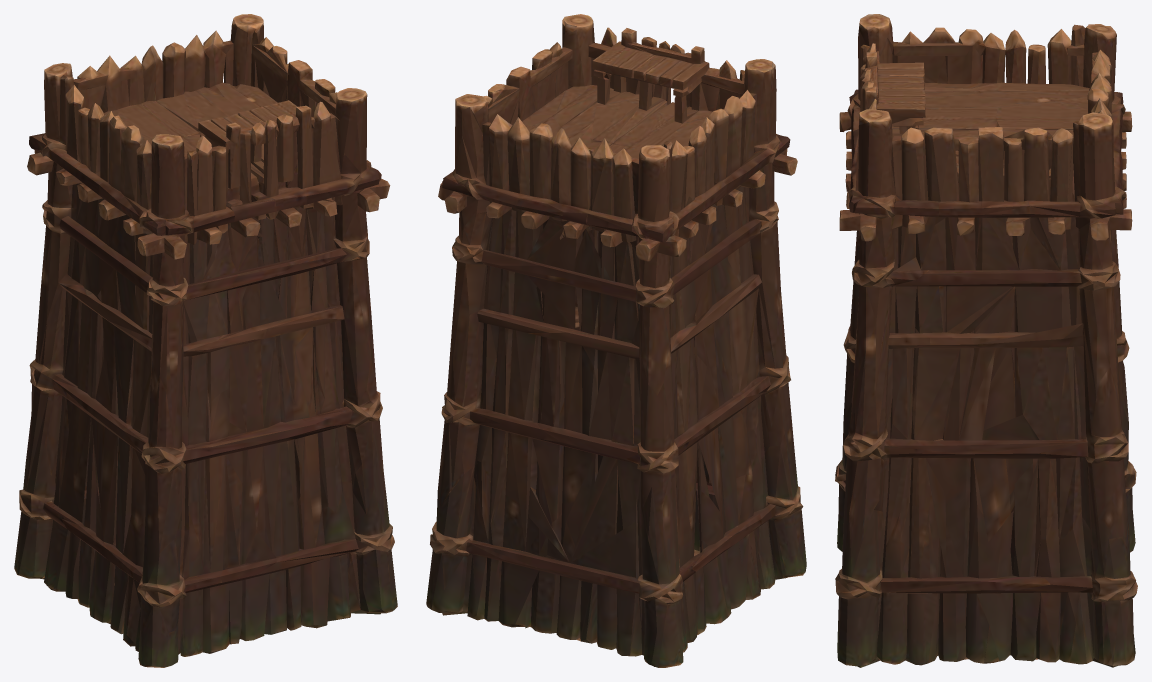
File: wallpost.glb
3 views of the same model, side by side, from view 1: azimuth 30°, elevation 25°; view 2: azimuth 150°, elevation 25°; view 3: azimuth 270°, elevation 25° (orthographic). The views are drawn at different scales.
Bounding box in the file's own units: 0.9799 × 1.9 × 0.9634.
1 material, 1 textured.
